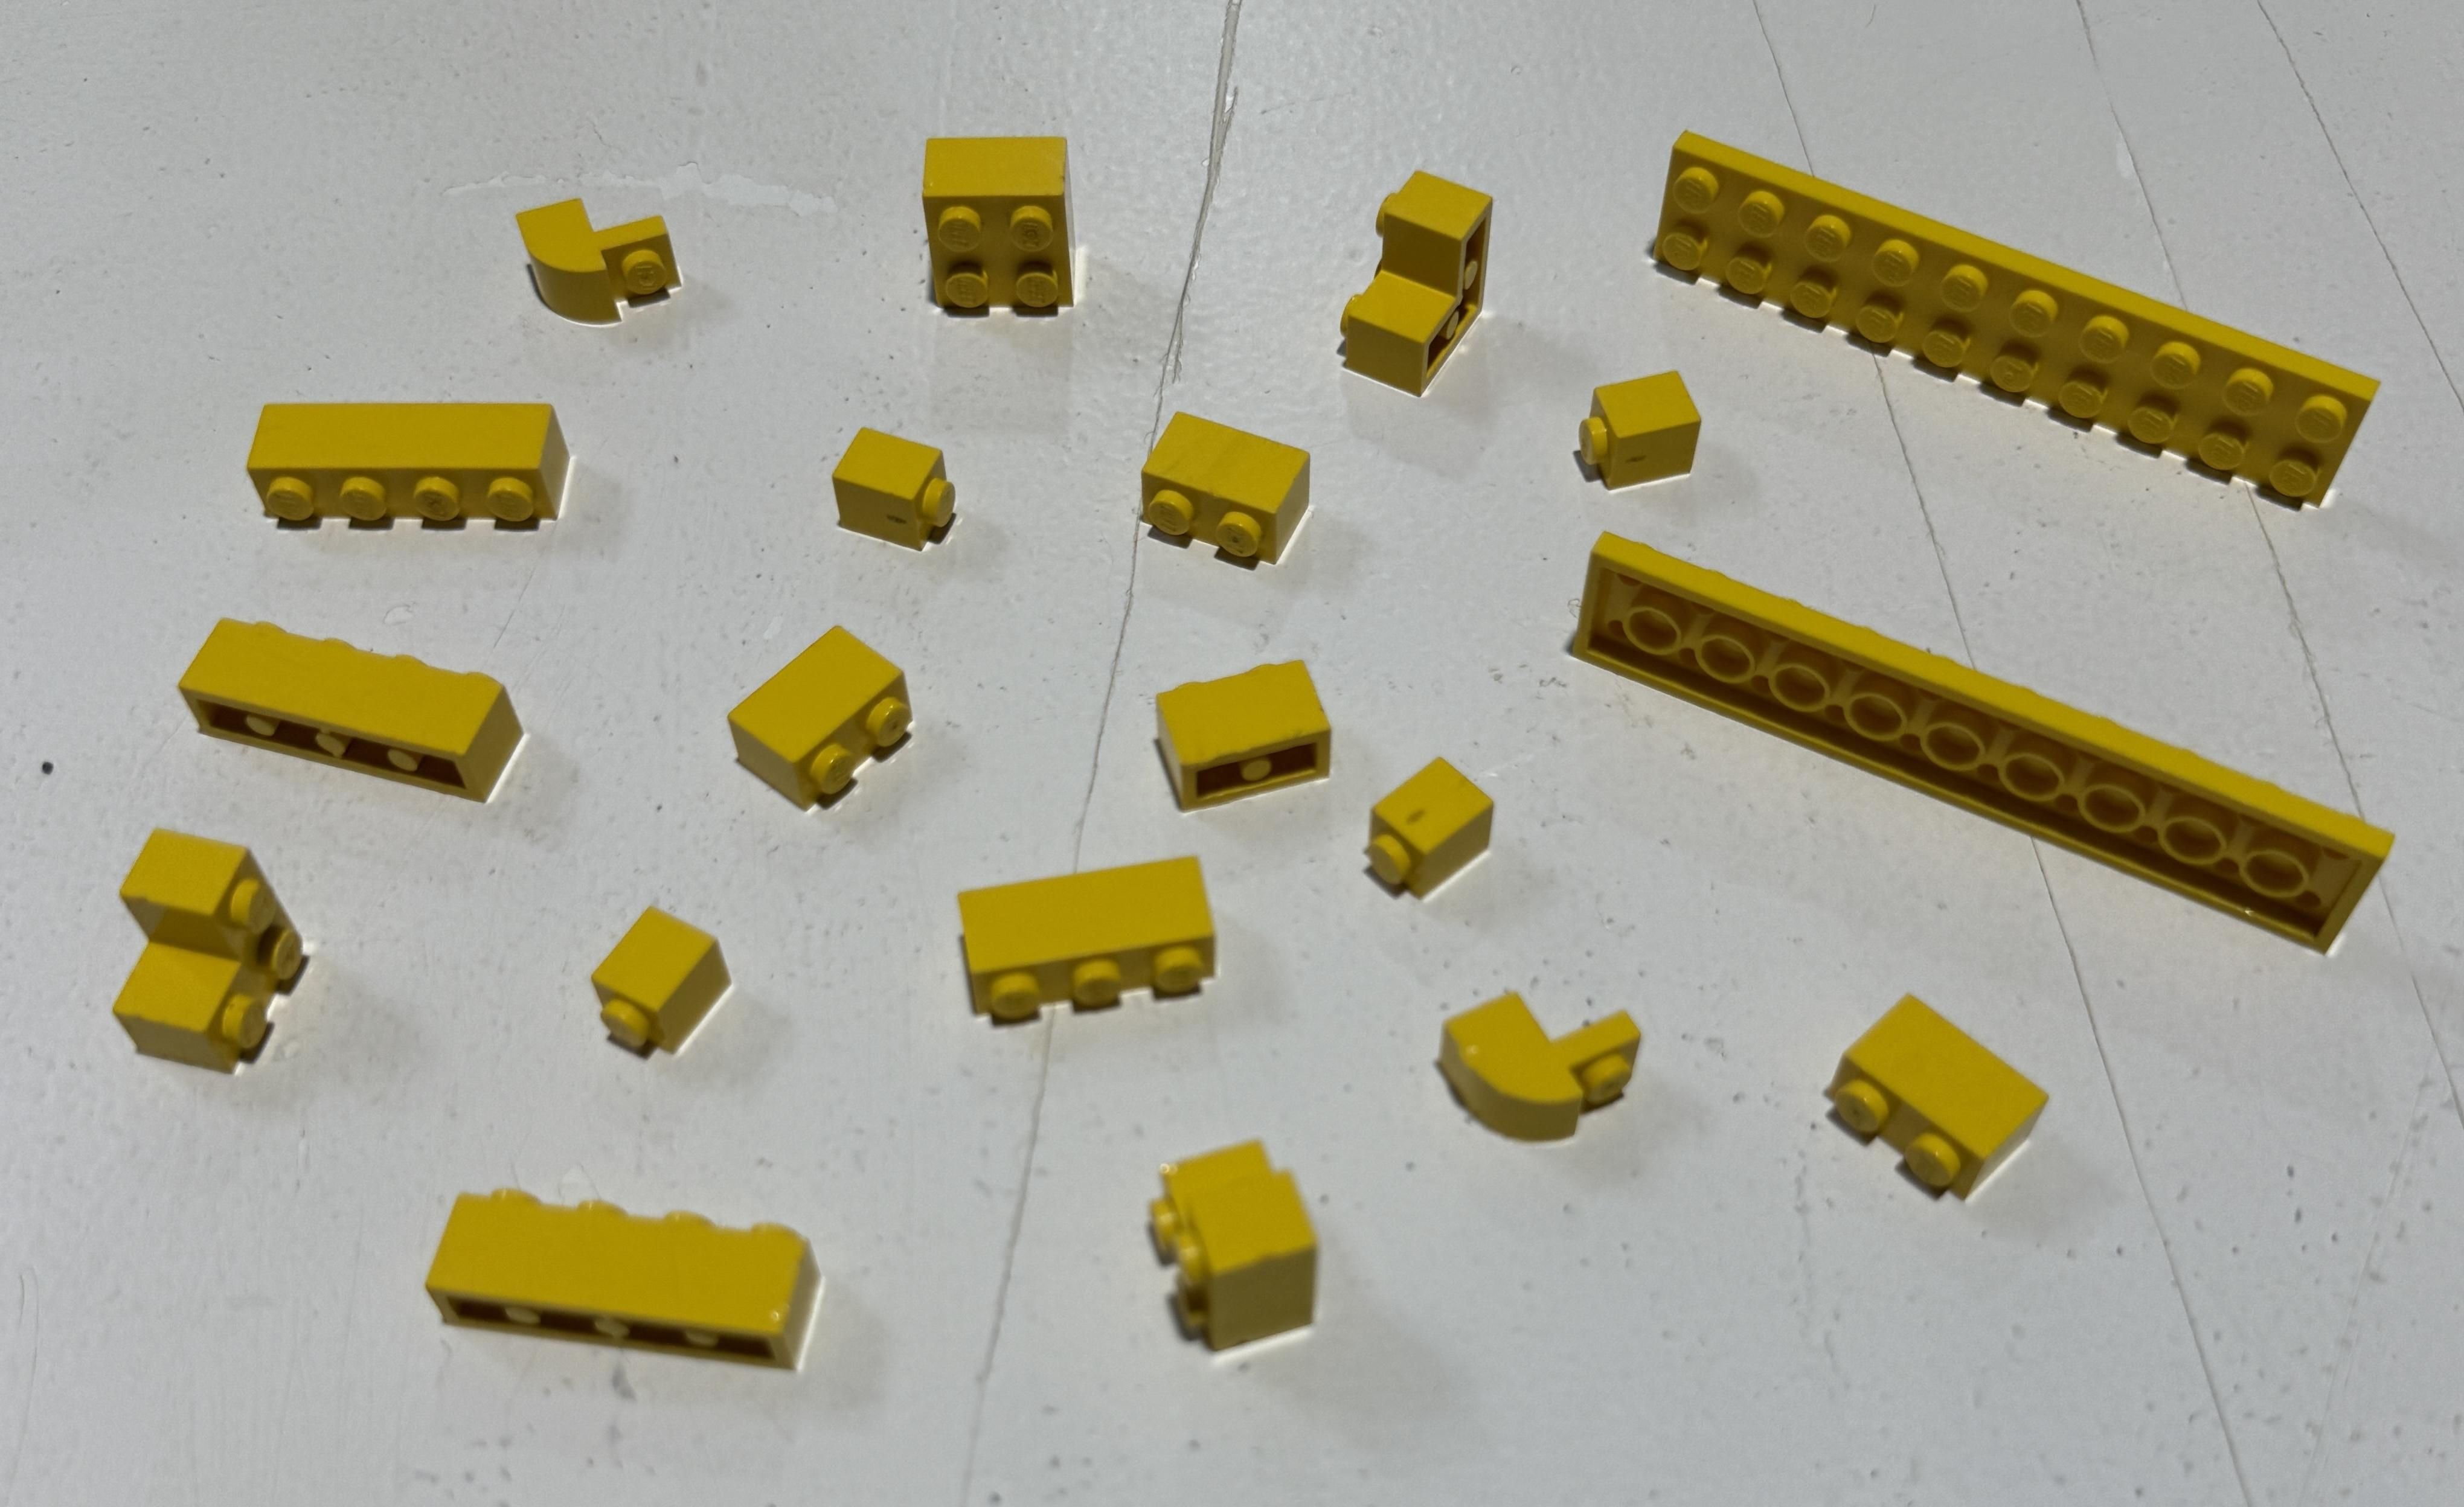brick_1x1: (561, 886, 785, 1083), (1336, 741, 1521, 915), (1558, 356, 1744, 525), (808, 401, 972, 572)
brick_1x2: (1793, 956, 2094, 1225), (671, 597, 972, 812), (1130, 620, 1369, 822), (1128, 384, 1334, 599)
brick_1x3: (908, 826, 1265, 1079)
brick_1x4: (392, 1153, 864, 1382), (150, 599, 547, 815), (215, 375, 621, 558)
brick_2x2: (901, 104, 1111, 345)
